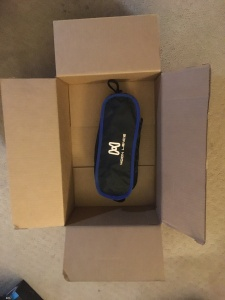innerbox: (56, 76, 161, 224)
outerbox: (5, 20, 202, 283)
product: (98, 94, 137, 199)
